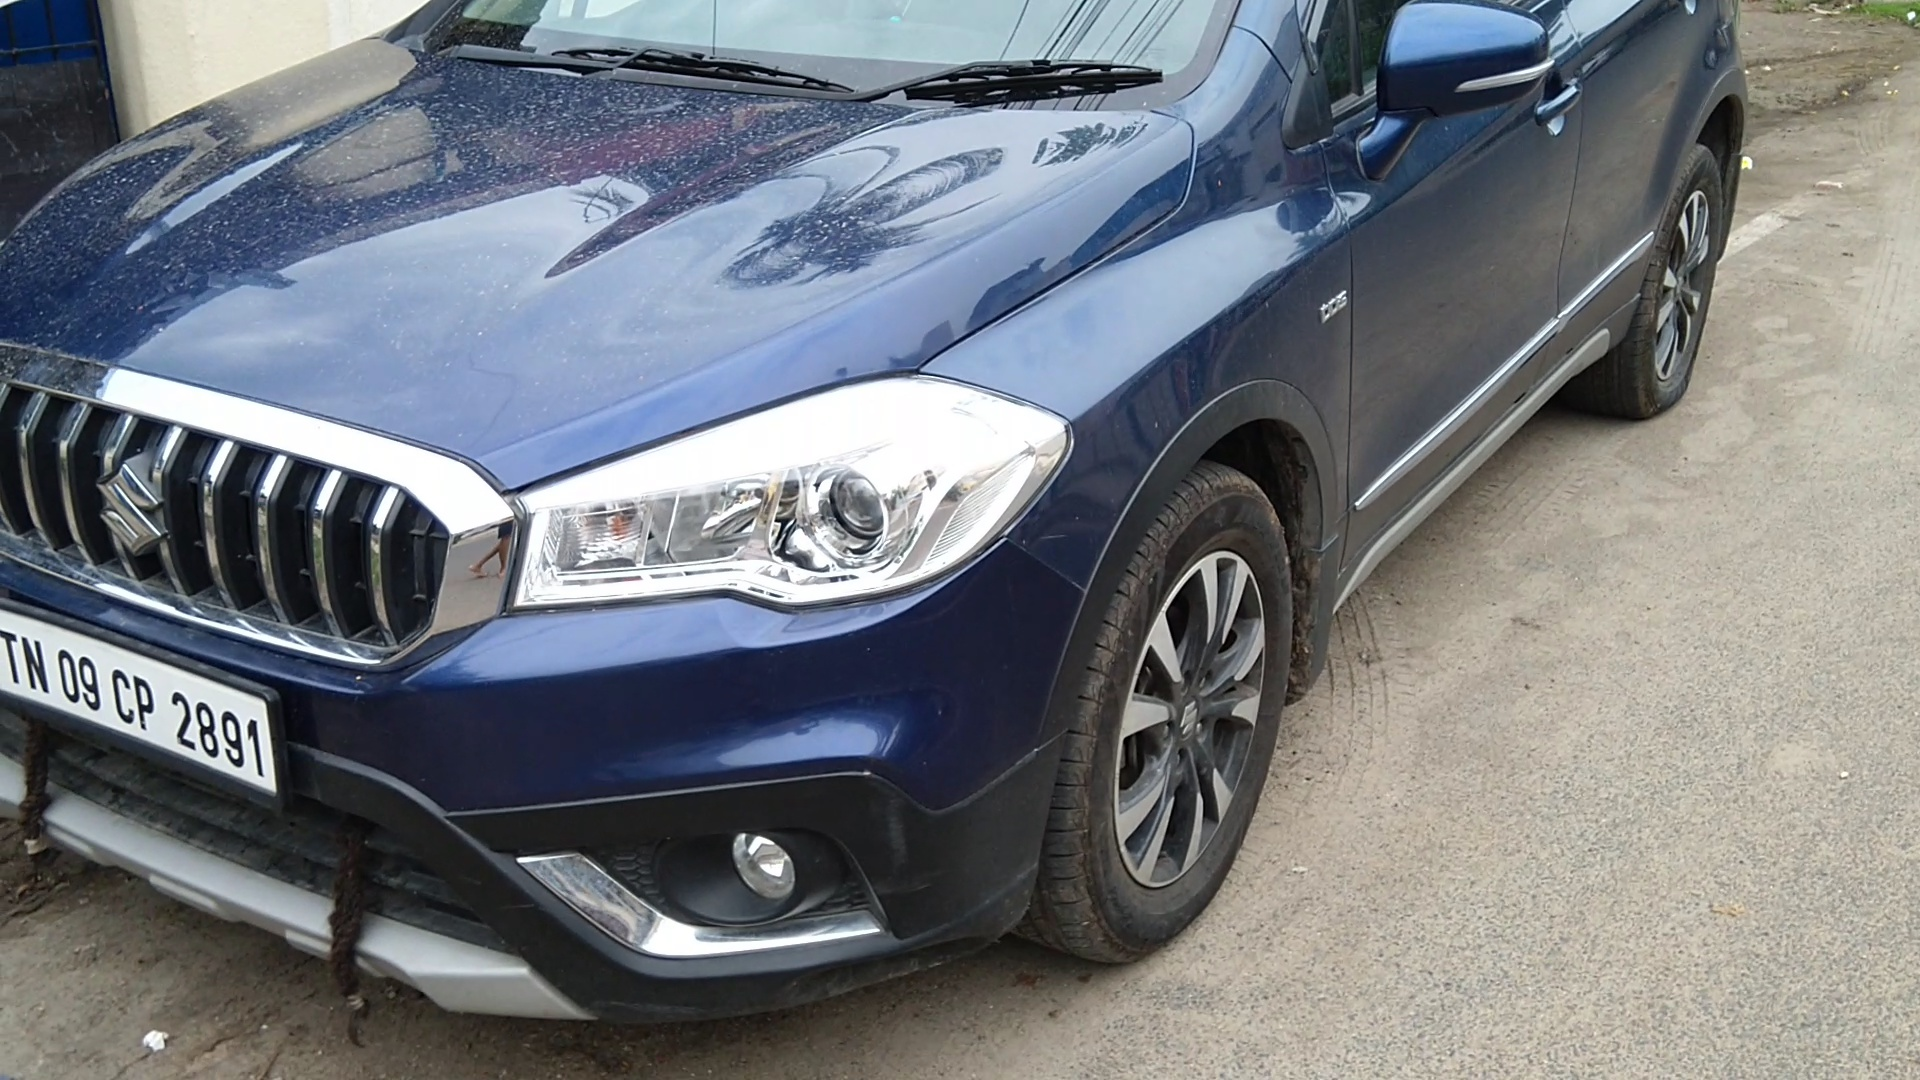alloy_wheel: (1069, 463, 1298, 957), (1619, 131, 1738, 407)
front_grill: (8, 322, 514, 687)
headlamp: (524, 372, 1067, 632)
ovr_mirror: (1367, 1, 1561, 131)
